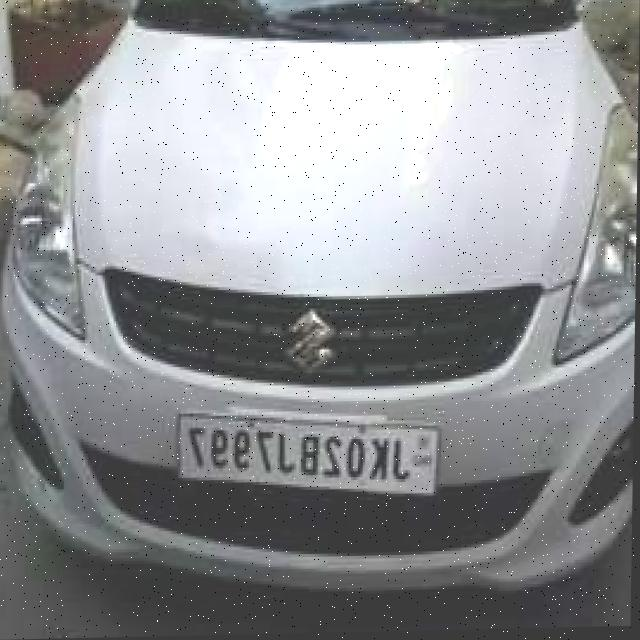plate: (179, 407, 445, 503)
